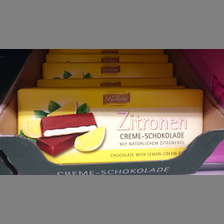chocolate: (14, 87, 209, 162)
